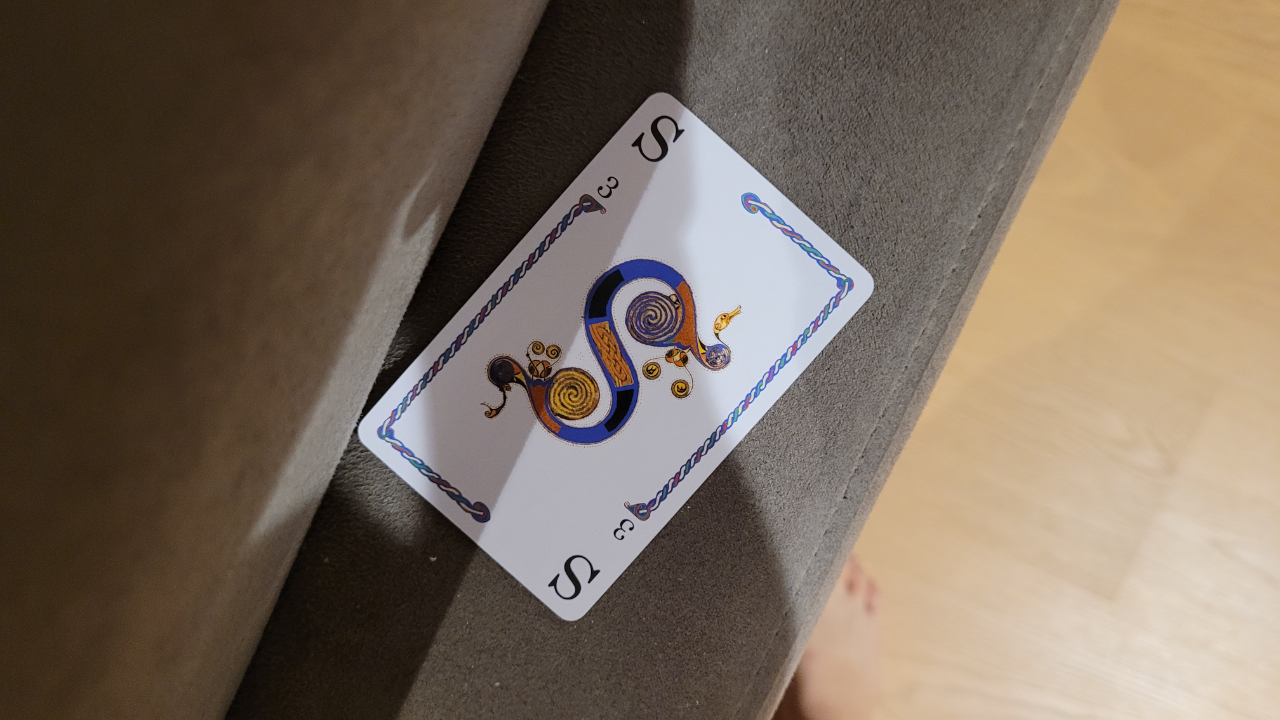quiddler_card: (346, 86, 897, 633)
